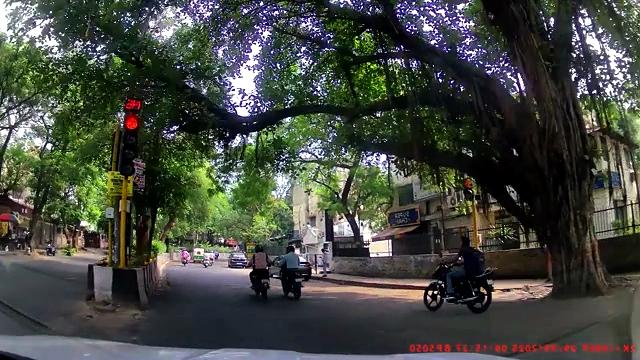motorcycle_with_helmet: (277, 243, 306, 300), (249, 243, 271, 299)
motorcycle_without_helmet: (423, 234, 495, 314)
